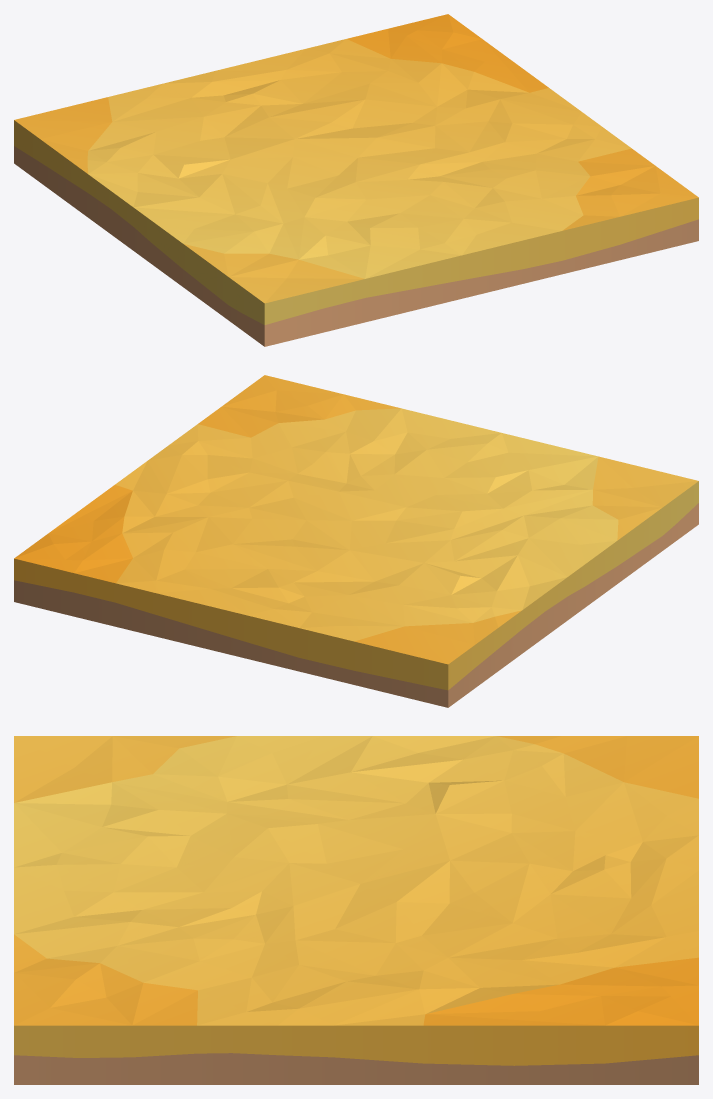
Rendered from land village autumn.fbx.
The picture shows the model from 3 angles, top to bottom: view 1: azimuth 30°, elevation 25°; view 2: azimuth 150°, elevation 25°; view 3: azimuth 270°, elevation 25°; orthographic projection. The views are drawn at different scales.
Parts seen in each view (by area): view 1: land village autumn; view 2: land village autumn; view 3: land village autumn.
Boxes of the visible parts, x1=… form: land village autumn: x1=14, y1=14, x2=698, y2=346; land village autumn: x1=14, y1=375, x2=698, y2=707; land village autumn: x1=14, y1=736, x2=698, y2=1084.
Size of the model in its own units: 4500 by 457 by 4500.
